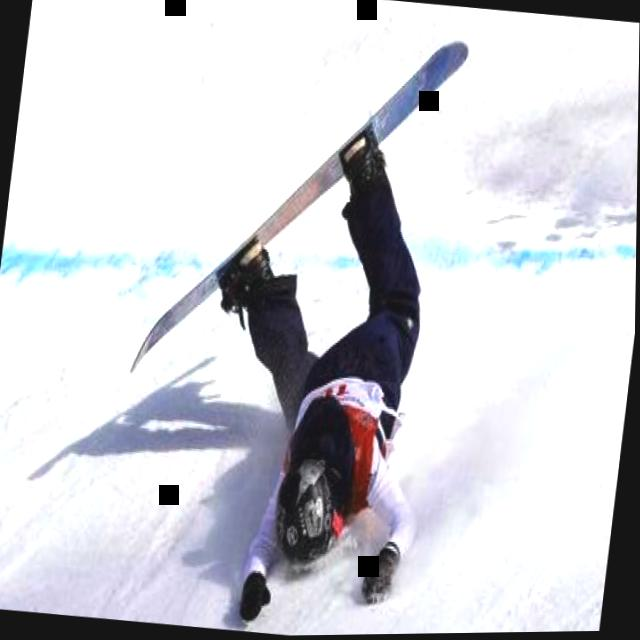Fall-Detected: (177, 82, 487, 620)
